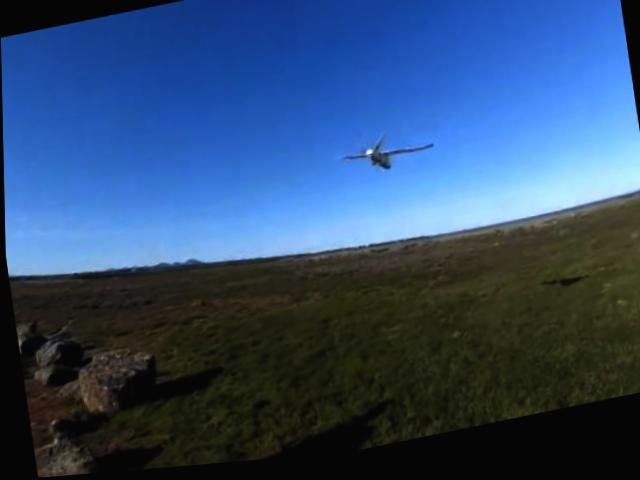uav: (332, 132, 439, 185)
